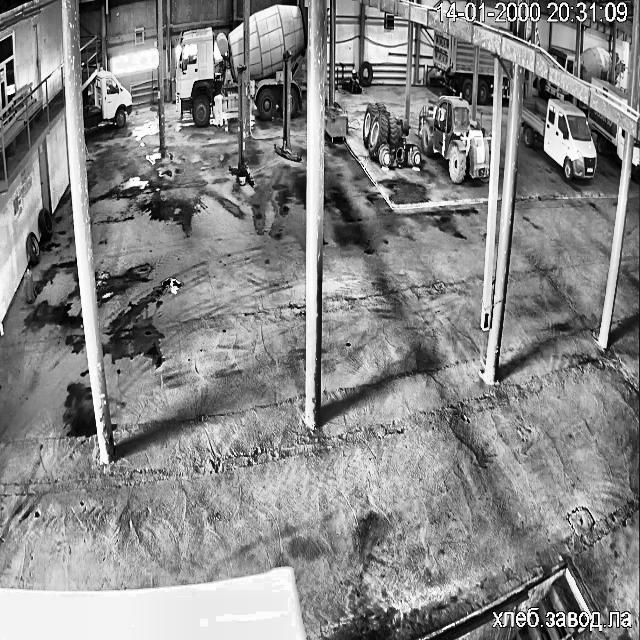class6: (418, 96, 489, 182), (362, 102, 420, 166)
class7: (176, 25, 244, 124), (248, 4, 306, 118), (521, 99, 596, 180), (433, 28, 473, 100), (84, 69, 132, 125), (588, 108, 624, 158), (580, 46, 610, 83), (477, 48, 494, 102), (592, 78, 628, 102), (534, 77, 569, 100), (549, 45, 574, 73), (500, 60, 510, 98), (632, 140, 640, 173), (616, 55, 620, 76), (218, 36, 221, 38)
truck: (274, 52, 300, 161), (229, 68, 252, 185)
